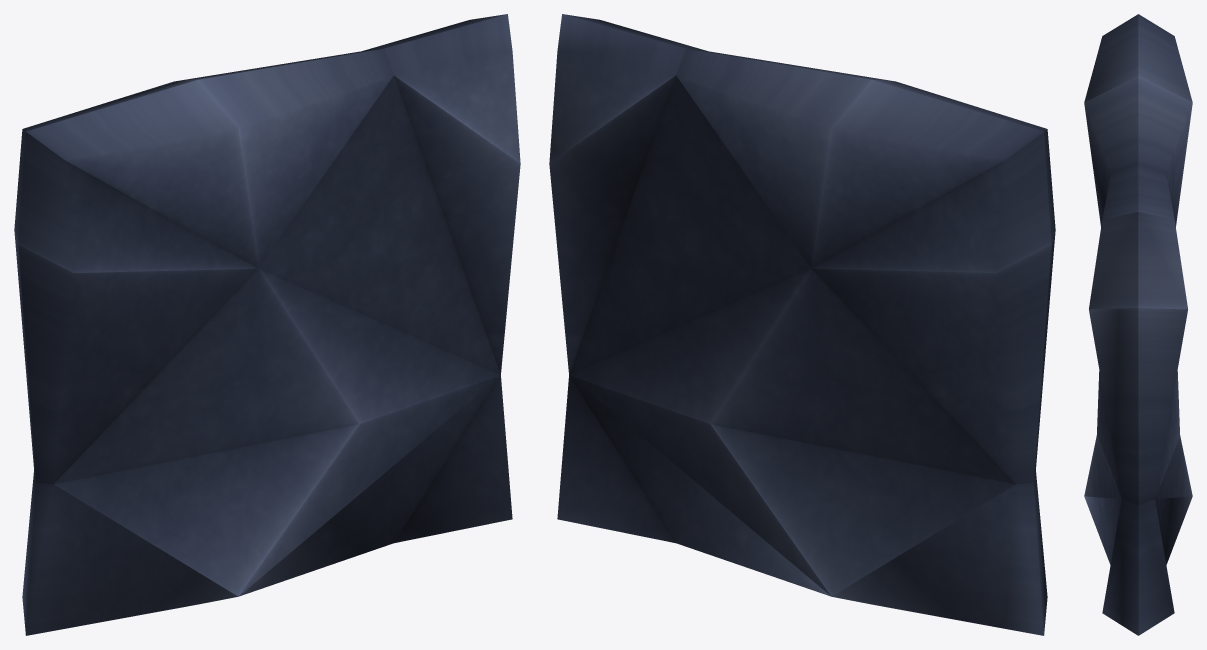
The model's file is LeftRightWalls.fbx.
3 views of the same model, side by side, from view 1: azimuth 30°, elevation 25°; view 2: azimuth 150°, elevation 25°; view 3: azimuth 270°, elevation 25° (orthographic). The views are drawn at different scales.
Parts seen in each view (by area): view 1: pCube206; view 2: pCube206; view 3: pCube206.
Boxes of the visible parts, x1,y1,x2,y2 form: pCube206: (14,14,520,635); pCube206: (549,14,1055,635); pCube206: (1084,14,1192,635).
Bounding box in the file's own units: 111 × 112 × 25.01.
